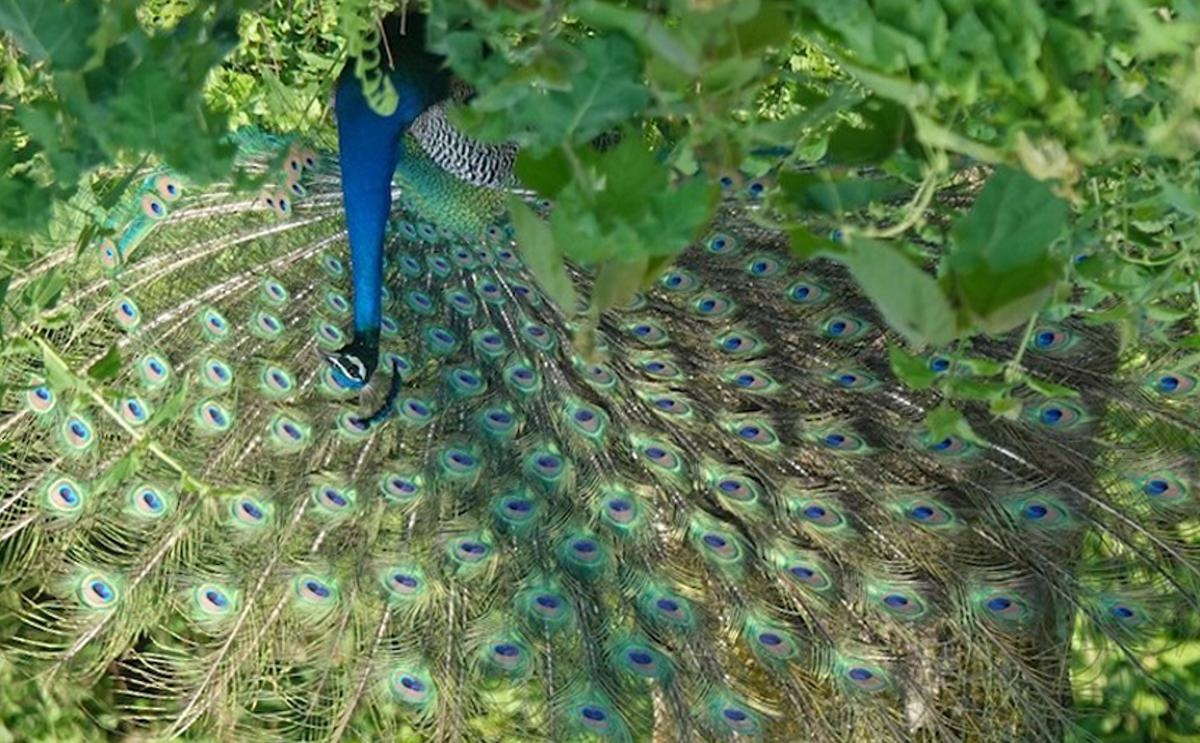peacock: (163, 64, 880, 608)
